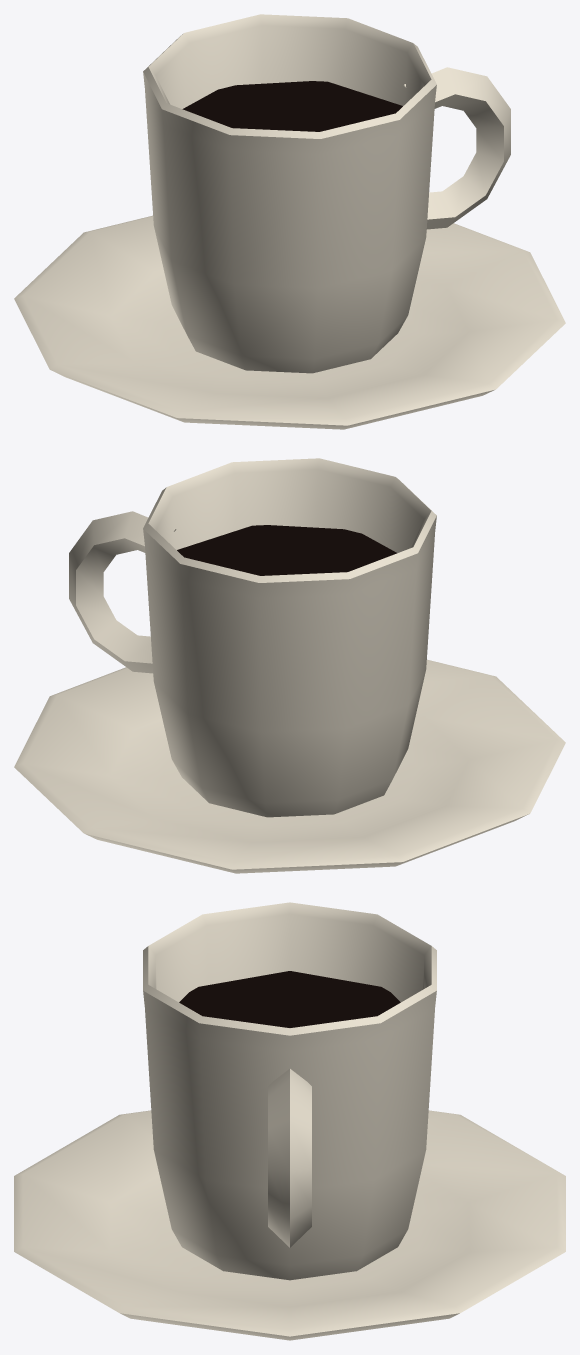
Rendered from arrival-cup.lod1.glb.
3 renders of one model, top to bottom at view 1: azimuth 30°, elevation 25°; view 2: azimuth 150°, elevation 25°; view 3: azimuth 270°, elevation 25°, orthographic. The views are drawn at different scales.
Parts seen in each view (by area): view 1: arrival_cup_Stoneware • oat glaze, arrival_cup_Trim • brass and bronze; view 2: arrival_cup_Stoneware • oat glaze, arrival_cup_Trim • brass and bronze; view 3: arrival_cup_Stoneware • oat glaze, arrival_cup_Trim • brass and bronze.
Part boxes in pixels (bbox=[...]): arrival_cup_Stoneware • oat glaze: bbox=[14, 14, 565, 429]; arrival_cup_Trim • brass and bronze: bbox=[182, 81, 402, 131]; arrival_cup_Stoneware • oat glaze: bbox=[14, 458, 565, 873]; arrival_cup_Trim • brass and bronze: bbox=[177, 525, 397, 575]; arrival_cup_Stoneware • oat glaze: bbox=[14, 902, 565, 1340]; arrival_cup_Trim • brass and bronze: bbox=[179, 971, 400, 1027].
Size of the model in its own units: 0.154 by 0.0853 by 0.1465.
Materials: 2 (1 with a texture image).
